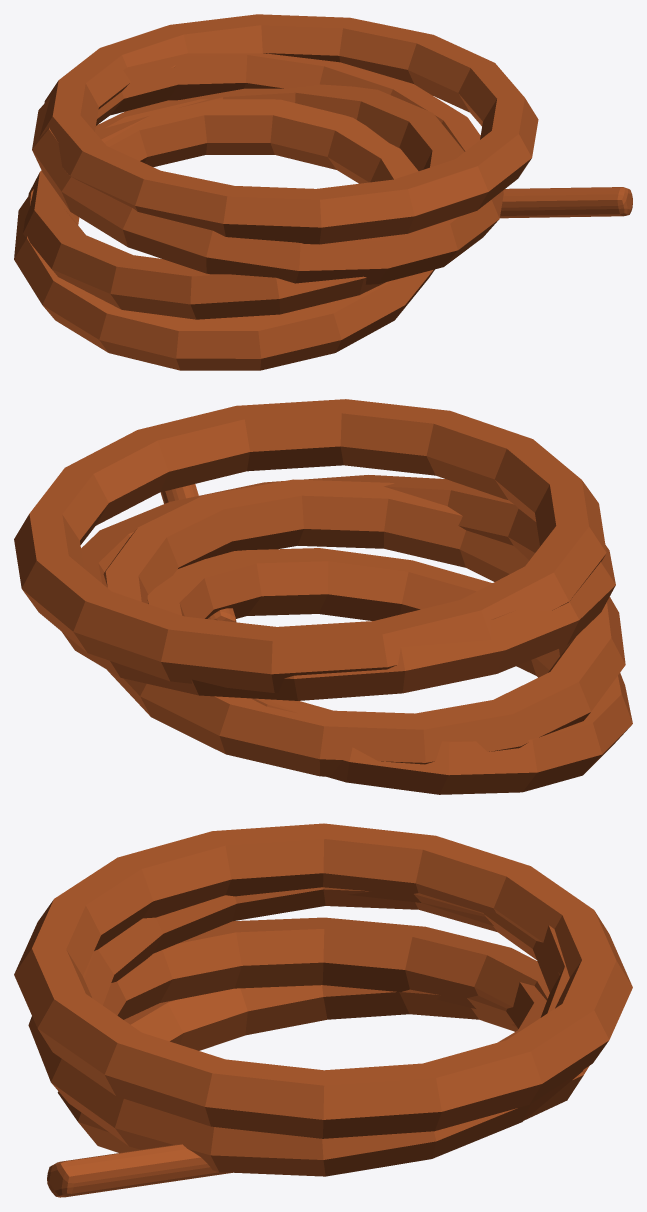
File: scrap_wire_coil.glb
3 views of the same model, one above another, from view 1: azimuth 30°, elevation 25°; view 2: azimuth 150°, elevation 25°; view 3: azimuth 270°, elevation 25° (orthographic). The views are drawn at different scales.
Parts seen in each view (by area): view 1: WireCoil_Mesh; view 2: WireCoil_Mesh; view 3: WireCoil_Mesh.
Part boxes in pixels (box(x1,y1,x2,y2)): WireCoil_Mesh: box(14, 14, 632, 370); WireCoil_Mesh: box(14, 399, 632, 794); WireCoil_Mesh: box(14, 823, 632, 1197).
Bounding box in the file's own units: 0.5008 × 0.1737 × 0.4499.
